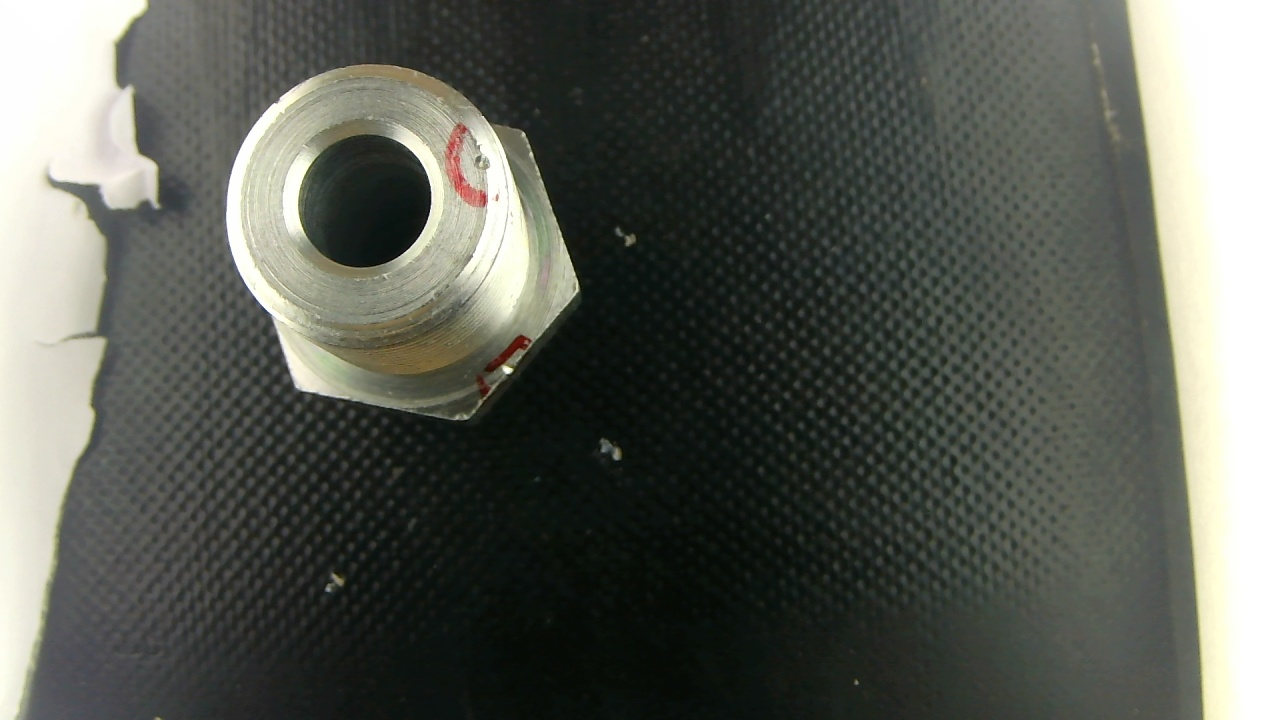SurfaceDent_Adaptor: (500, 345, 521, 378)
